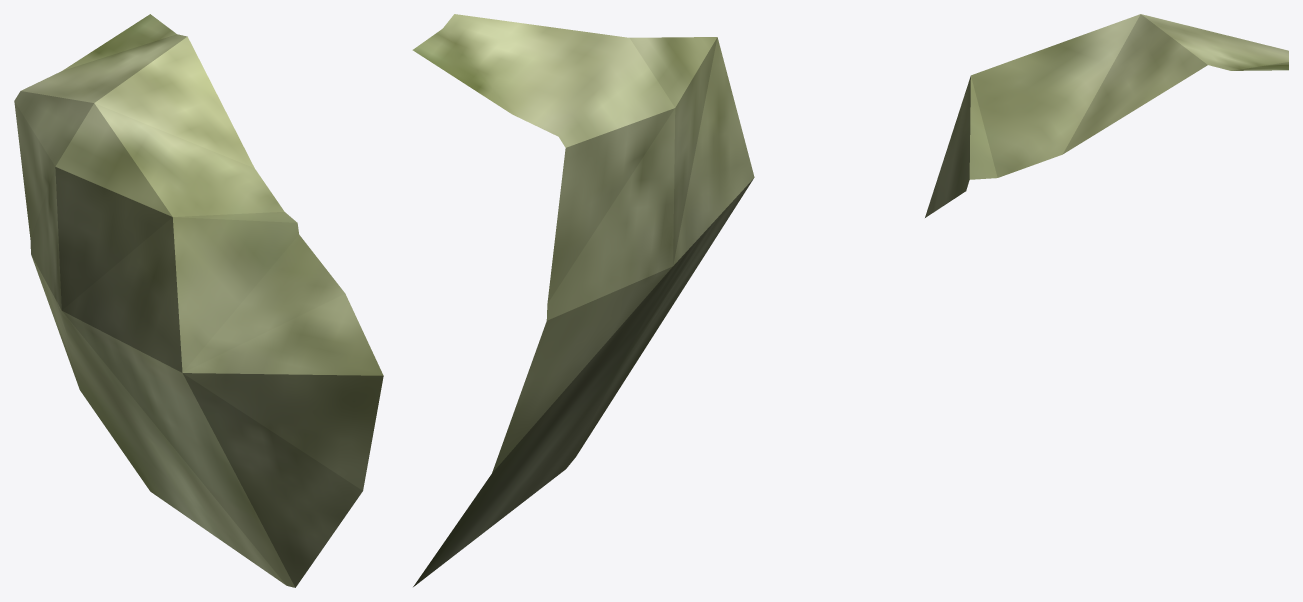
The picture shows the model from 3 angles, left to right: view 1: azimuth 30°, elevation 25°; view 2: azimuth 150°, elevation 25°; view 3: azimuth 270°, elevation 25°; orthographic projection. The views are drawn at different scales.
Bounding box in the file's own units: 0.1842 × 0.5171 × 0.4534.
Materials: 1 (1 with a texture image).
